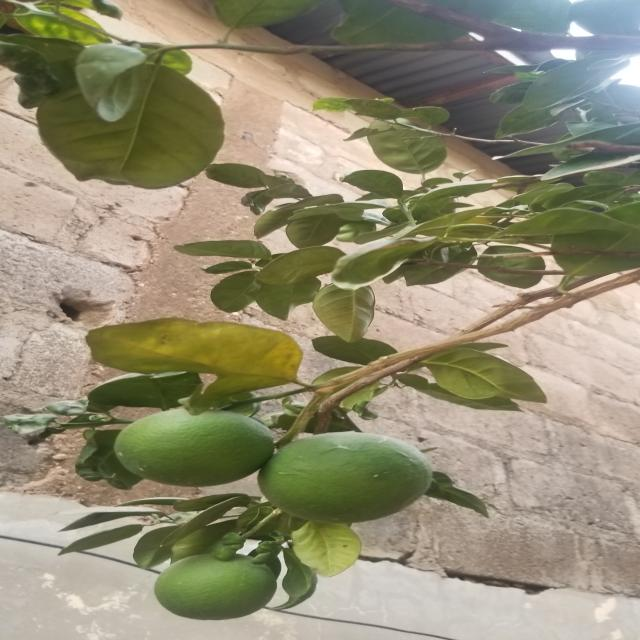Unripe: (261, 434, 444, 528), (108, 406, 268, 494), (147, 549, 284, 622)
